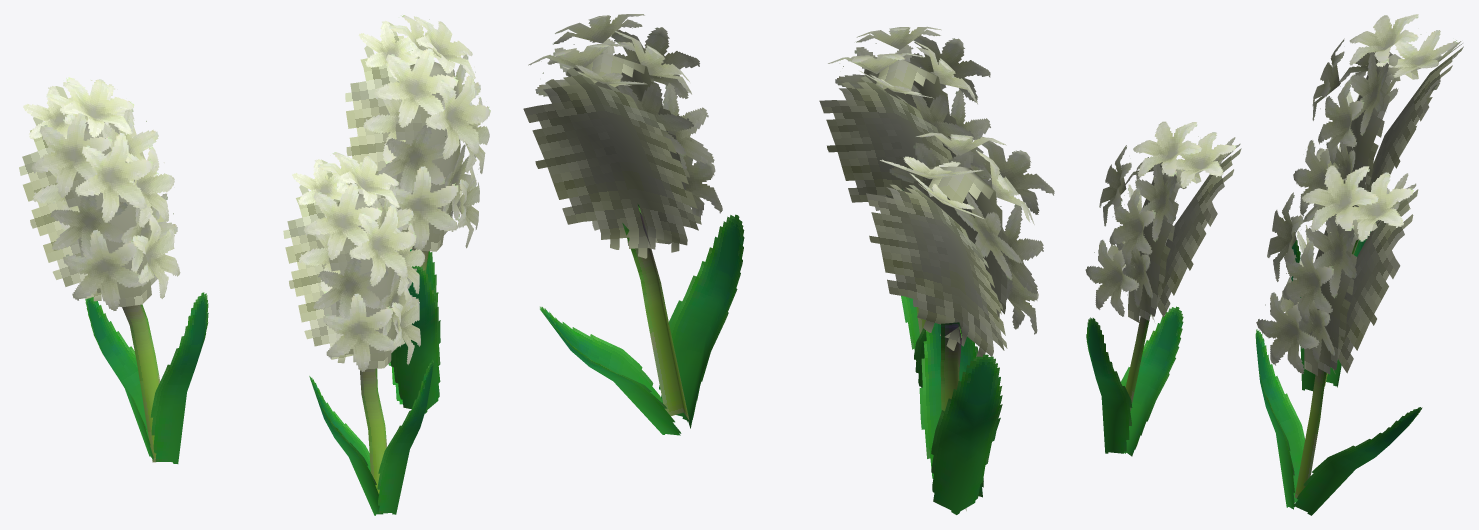
File: white-hyacinths.glb
The picture shows the model from 3 angles, left to right: view 1: azimuth 30°, elevation 25°; view 2: azimuth 150°, elevation 25°; view 3: azimuth 270°, elevation 25°; orthographic projection. The views are drawn at different scales.
Bounding box in the file's own units: 9.35 × 7.63 × 7.18.
2 materials, 2 textured.
